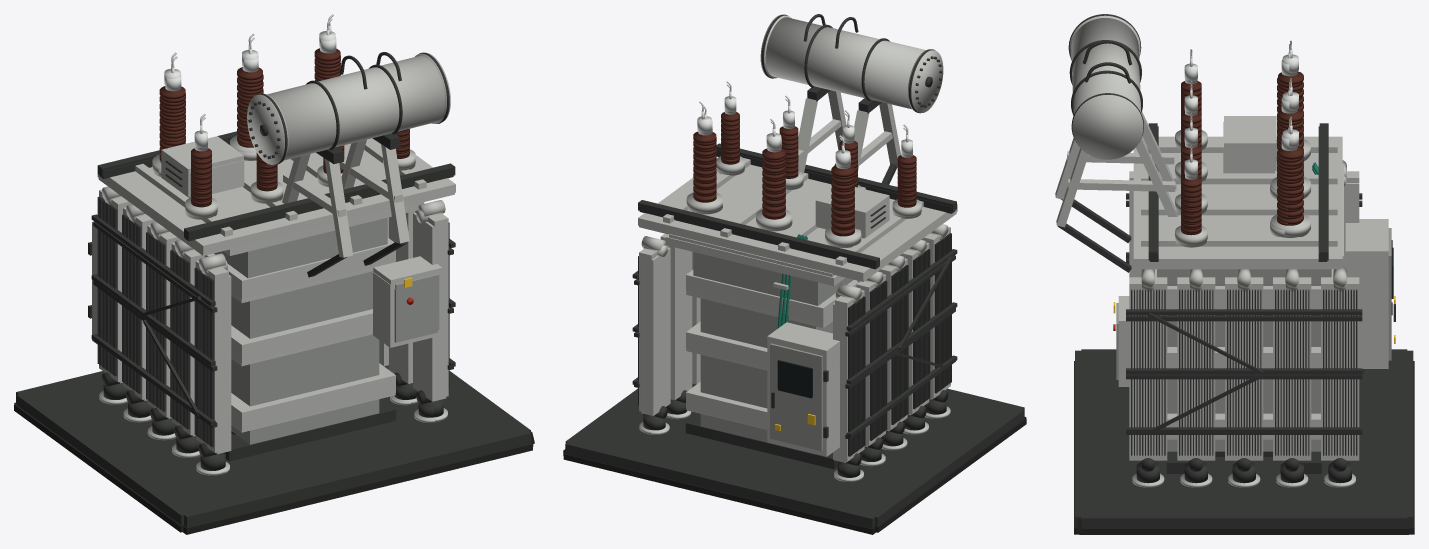
Rendered from transformer_clean_v1.glb.
The picture shows the model from 3 angles, left to right: view 1: azimuth 30°, elevation 25°; view 2: azimuth 150°, elevation 25°; view 3: azimuth 270°, elevation 25°; orthographic projection. The views are drawn at different scales.
Visible parts, largest first — view 1: V4_BaseTop.003, TR_MainTank, TR_ConservatorTank, TR_BaseTop, BushingDeck, TankBand_0.55, UpperShoulder, TankBand_1.15, TankBand_1.72, DeckRail, RAD_L_panel_0, TR_BaseLower (+34 smaller); view 2: TR_BaseTop, BushingDeck, TR_ConservatorTank, V4_BaseTop.003, CoreTank, TR_RadiatorRight_Panel4, MainControlDoor, MainControlCabinet, TR_RadiatorRight_Panel3, UpperShoulder, DeckRail.001, TankBand_1.72 (+33 smaller); view 3: TR_BaseTop, BushingDeck, MainControlCabinet, RAD_R_panel_3, RAD_R_panel_0, RAD_R_panel_4, RAD_R_panel_1, RAD_R_panel_2, TR_ConservatorTank, TR_ConservatorEnd.001, V4_BaseTop.003, TR_MainTank (+40 smaller).
Part boxes in pixels (x1,y1,x2,y2): V4_BaseTop.003: [16, 371, 530, 525]; TR_MainTank: [231, 271, 379, 444]; TR_ConservatorTank: [267, 55, 444, 160]; TR_BaseTop: [16, 371, 531, 527]; BushingDeck: [97, 138, 455, 254]; TankBand_0.55: [231, 363, 395, 430]; UpperShoulder: [214, 217, 387, 278]; TankBand_1.15: [231, 309, 372, 362]; TankBand_1.72: [204, 238, 395, 298]; DeckRail: [184, 163, 455, 240]; RAD_L_panel_0: [195, 260, 228, 452]; TR_BaseLower: [14, 402, 532, 534]; TR_BaseTop: [565, 388, 1024, 528]; BushingDeck: [638, 164, 957, 280]; TR_ConservatorTank: [765, 17, 925, 109]; V4_BaseTop.003: [565, 388, 1024, 526]; CoreTank: [701, 298, 814, 441]; TR_RadiatorRight_Panel4: [641, 247, 670, 415]; MainControlDoor: [770, 343, 822, 450]; MainControlCabinet: [767, 322, 839, 456]; TR_RadiatorRight_Panel3: [668, 246, 692, 400]; UpperShoulder: [693, 252, 818, 305]; DeckRail.001: [638, 200, 879, 268]; TankBand_1.72: [686, 270, 857, 324]; TR_BaseTop: [1075, 350, 1413, 527]; BushingDeck: [1133, 136, 1342, 267]; MainControlCabinet: [1345, 219, 1388, 368]; RAD_R_panel_3: [1273, 277, 1311, 459]; RAD_R_panel_0: [1129, 277, 1167, 459]; RAD_R_panel_4: [1321, 277, 1359, 459]; RAD_R_panel_1: [1177, 277, 1215, 459]; RAD_R_panel_2: [1225, 277, 1263, 459]; TR_ConservatorTank: [1071, 18, 1141, 114]; TR_ConservatorEnd.001: [1072, 93, 1143, 159]; V4_BaseTop.003: [1081, 349, 1407, 527]; TR_MainTank: [1167, 321, 1320, 451].
Bounding box in the file's own units: 3.29 × 3.73 × 2.92.
